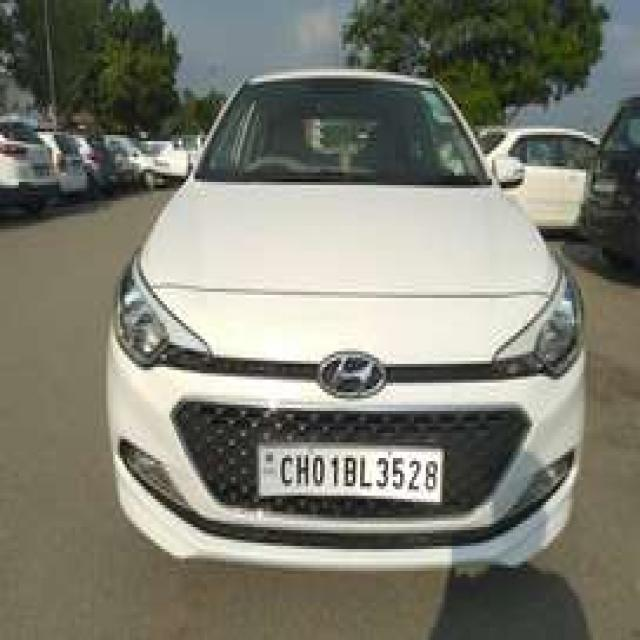Plate: (255, 437, 443, 500)
